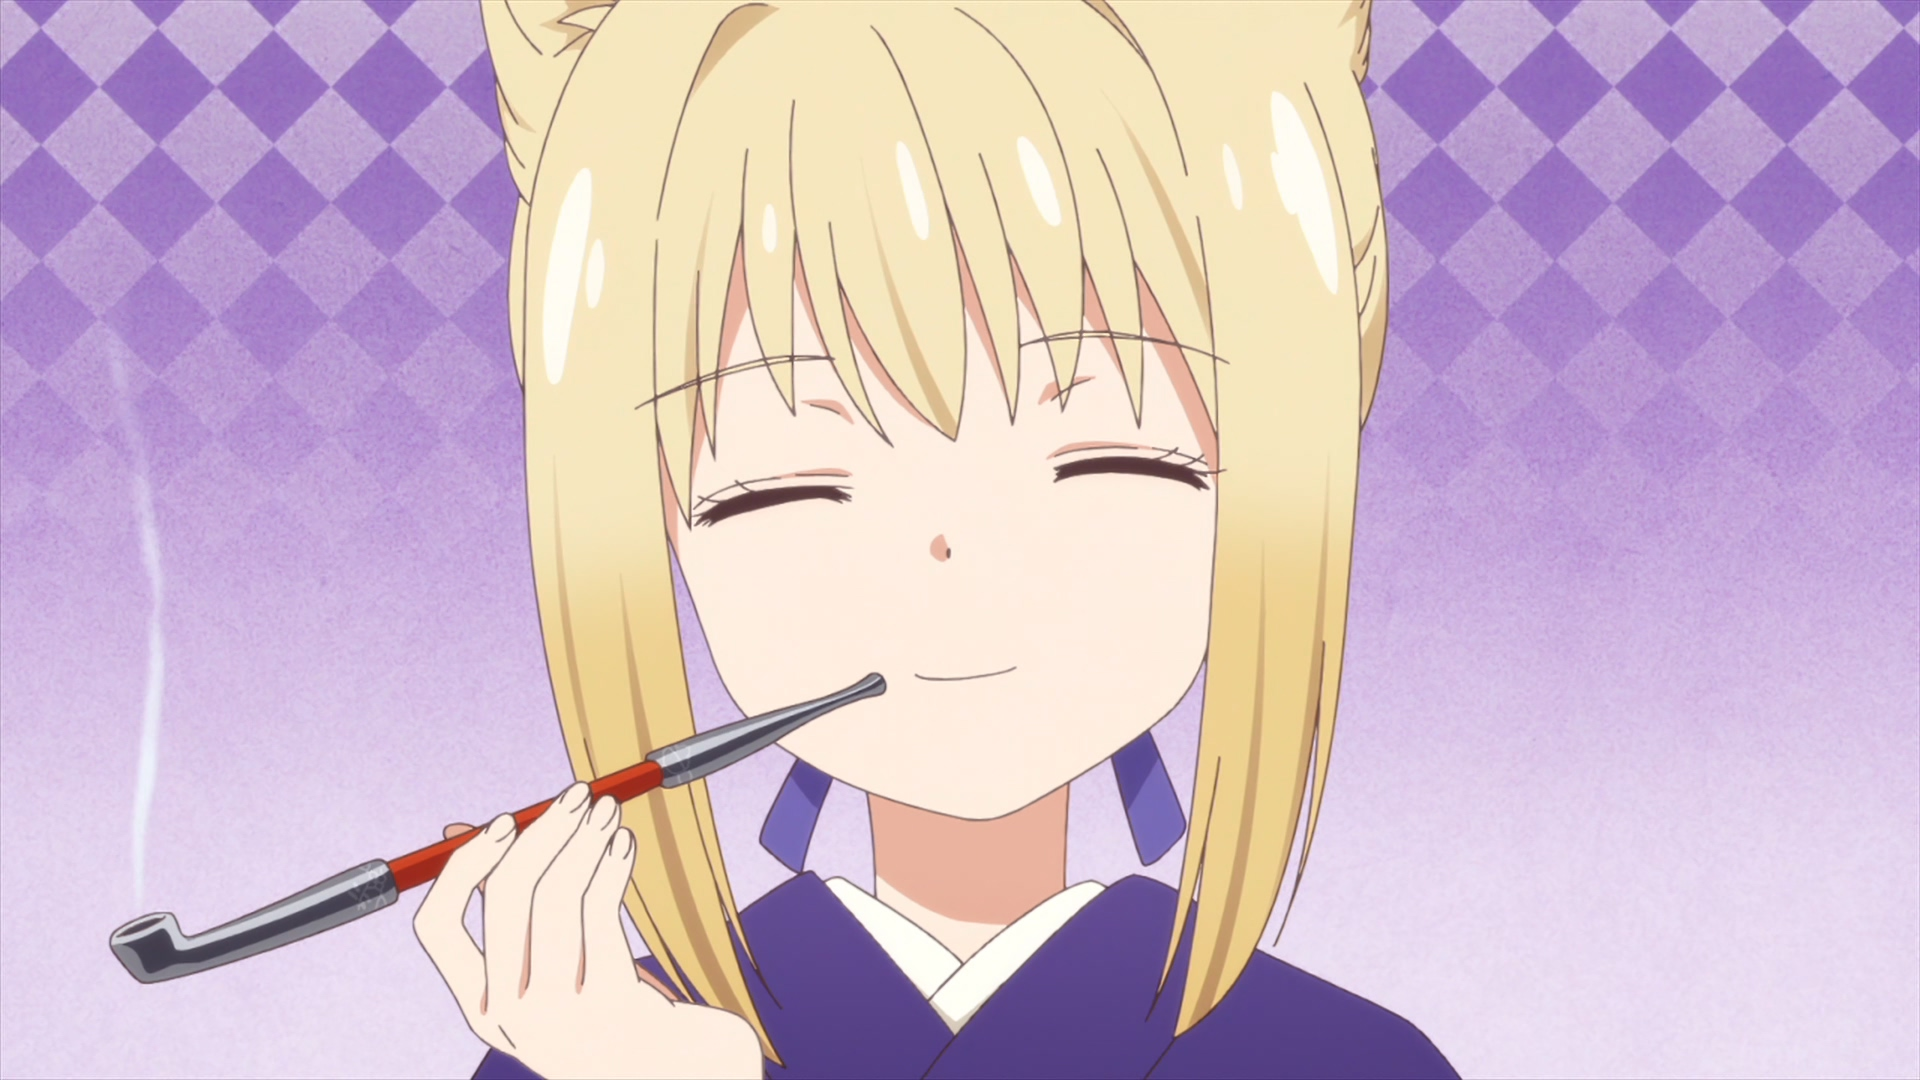桐: (109, 1, 1457, 1080)
